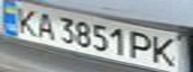1: (106, 25, 130, 57)
3: (51, 15, 78, 45)
5: (90, 21, 112, 53)
8: (72, 18, 93, 50)
A: (30, 9, 60, 40)
K: (148, 34, 184, 69), (9, 3, 42, 36)
P: (127, 29, 157, 62)
